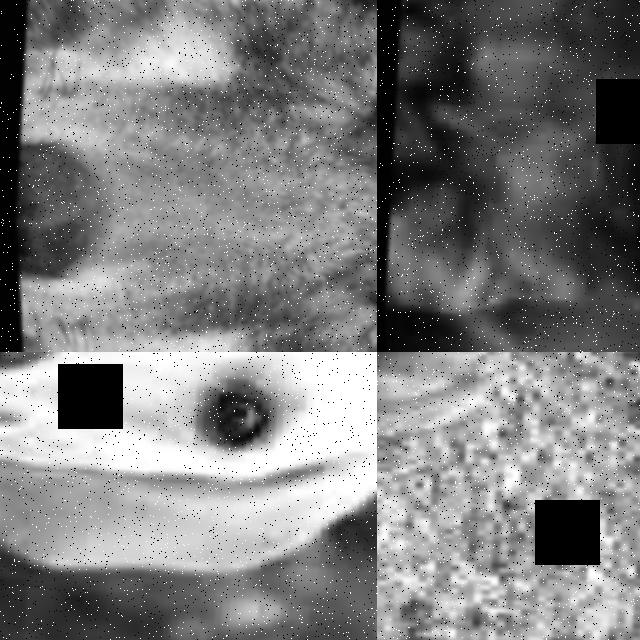dog: (0, 352, 377, 640), (377, 0, 640, 352), (380, 232, 640, 352)
wolf: (0, 0, 377, 352), (377, 352, 640, 541)
